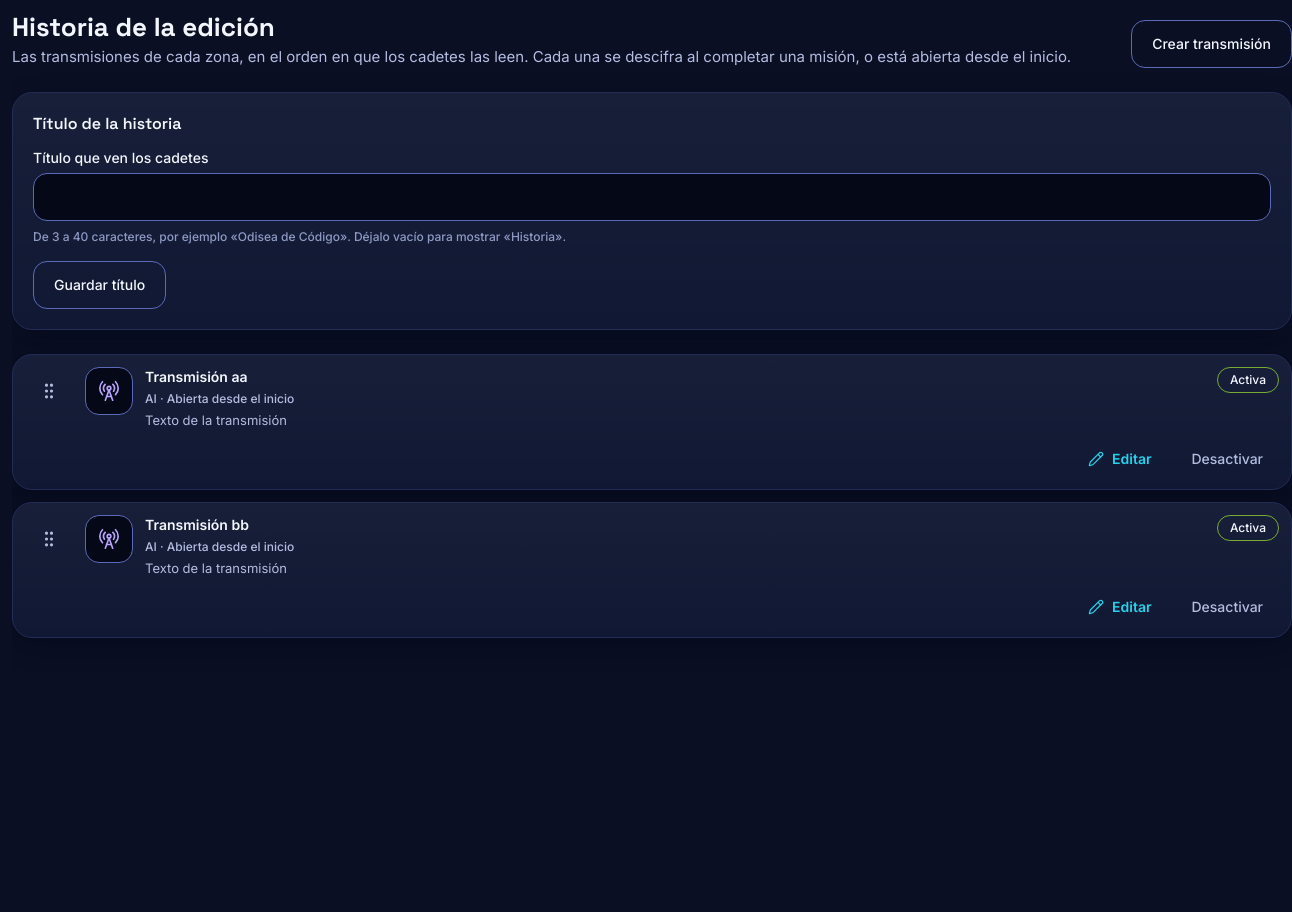
Scenario: CommunicationsAdminView › moves, deactivates and seeds, and explains a refusal
Press ArrowDown in the button named "Mover Transmisión aa", box [25, 367, 73, 415]
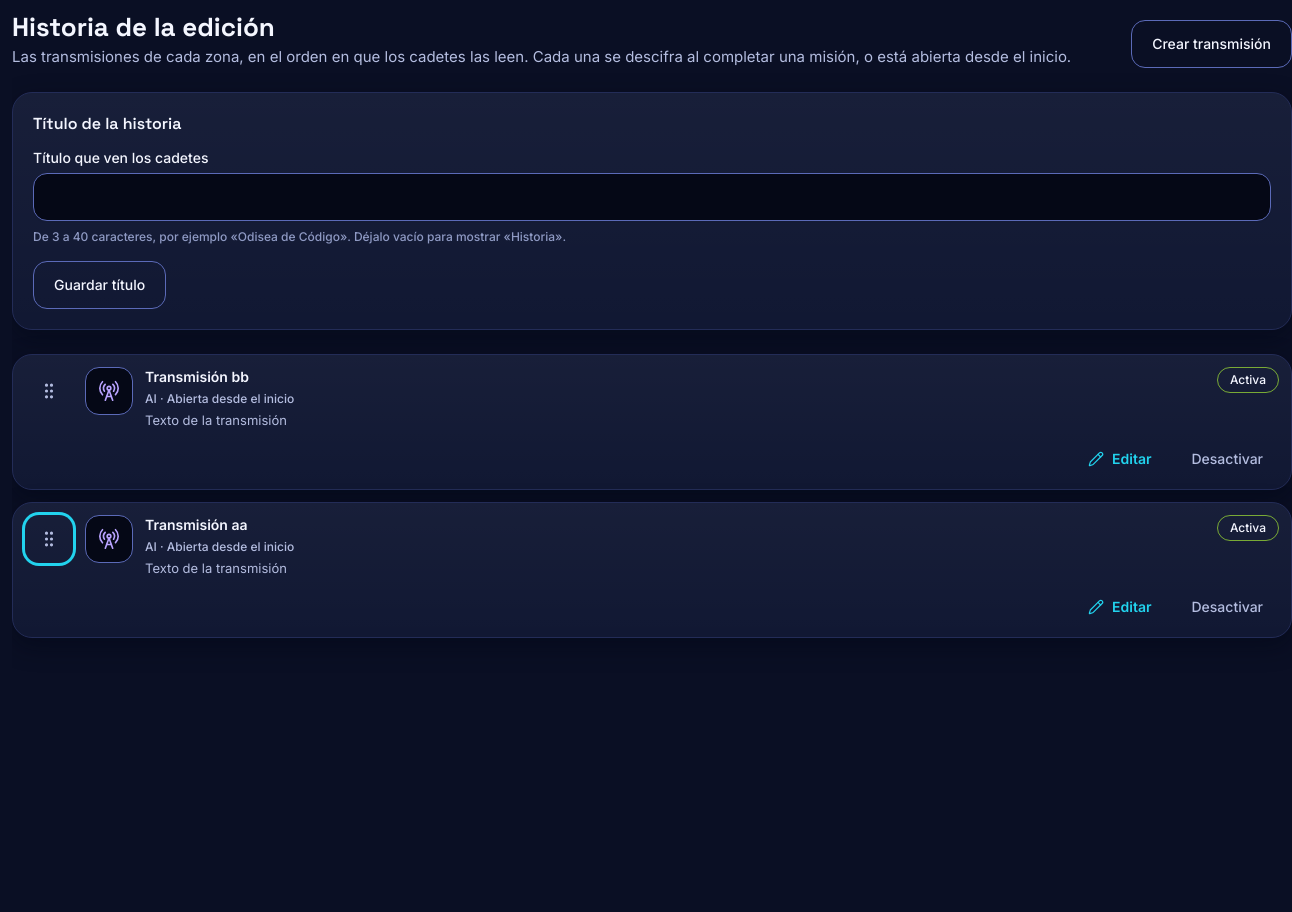
Click the 1st button "Desactivar" at {"x": 1227, "y": 459}, box [1176, 441, 1279, 477]
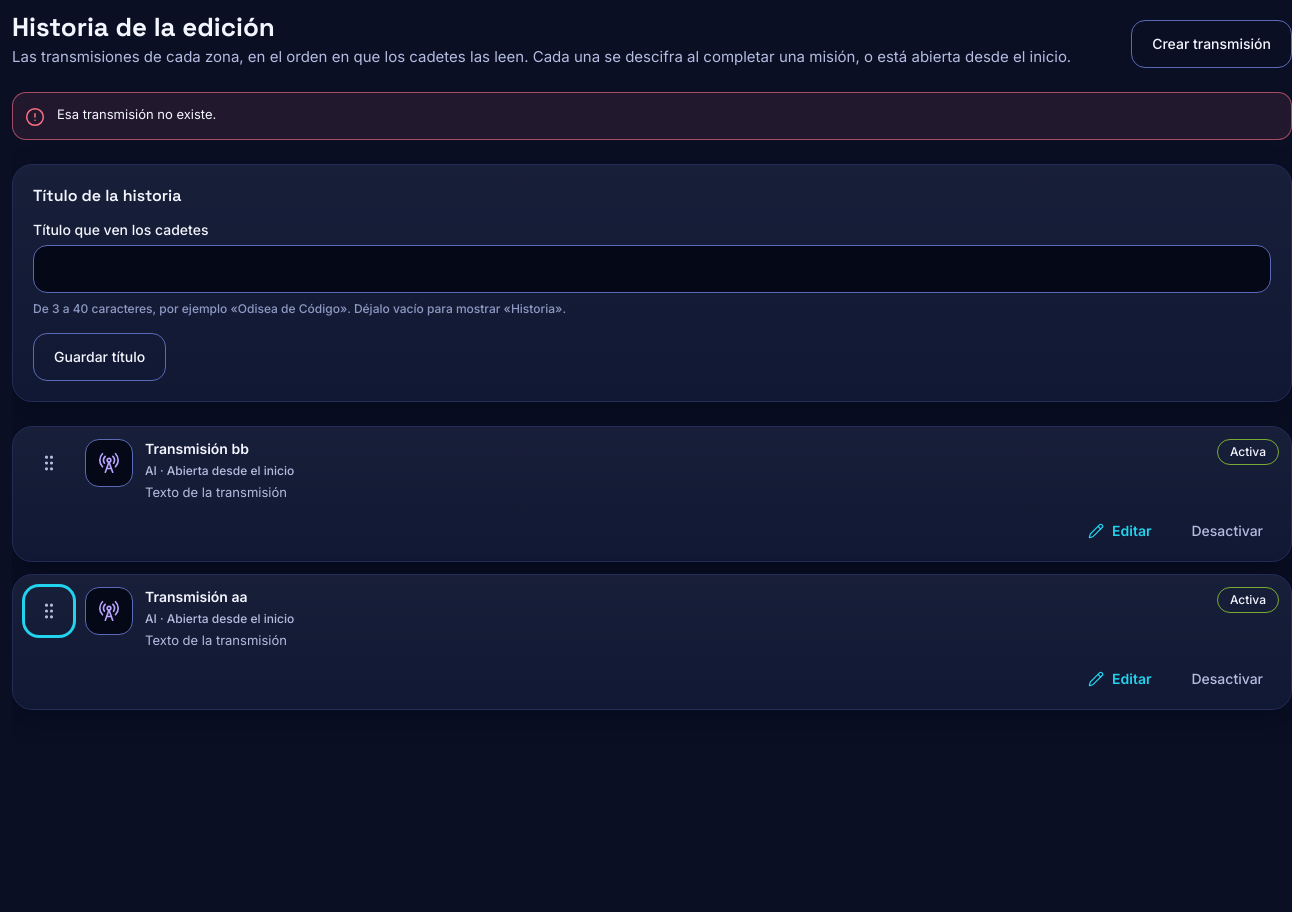
Expected: the message reads "Esa transmisión no existe.", [57, 106, 216, 122]
